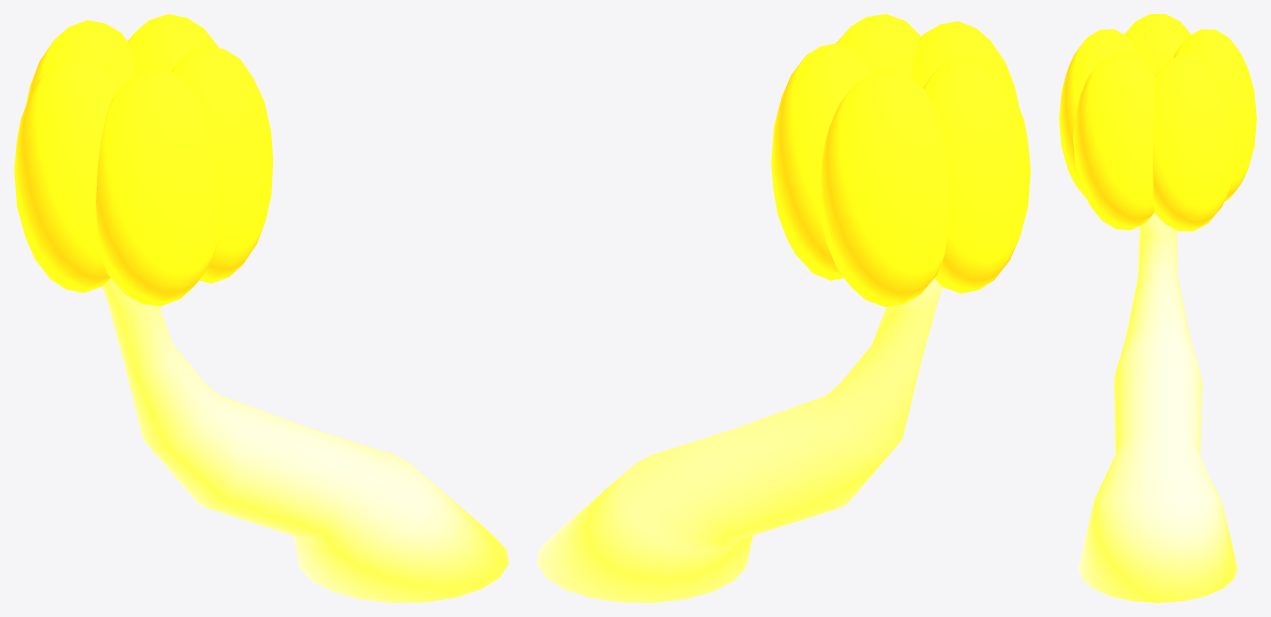
The picture shows the model from 3 angles, left to right: view 1: azimuth 30°, elevation 25°; view 2: azimuth 150°, elevation 25°; view 3: azimuth 270°, elevation 25°; orthographic projection. The views are drawn at different scales.
Visible parts, largest first — view 1: Icosphere.022, Cylinder.197; view 2: Icosphere.022, Cylinder.197; view 3: Icosphere.022, Cylinder.197.
Boxes of the visible parts, left/top/right/bottom form: Icosphere.022: left=14, top=14, right=273, bottom=306; Cylinder.197: left=102, top=278, right=508, bottom=602; Icosphere.022: left=771, top=14, right=1030, bottom=306; Cylinder.197: left=537, top=278, right=942, bottom=602; Icosphere.022: left=1059, top=14, right=1256, bottom=231; Cylinder.197: left=1078, top=213, right=1237, bottom=602.
Size of the model in its own units: 305 by 359 by 148.
